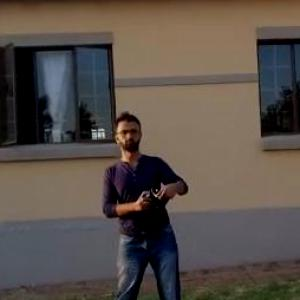follow: (93, 105, 194, 299)
